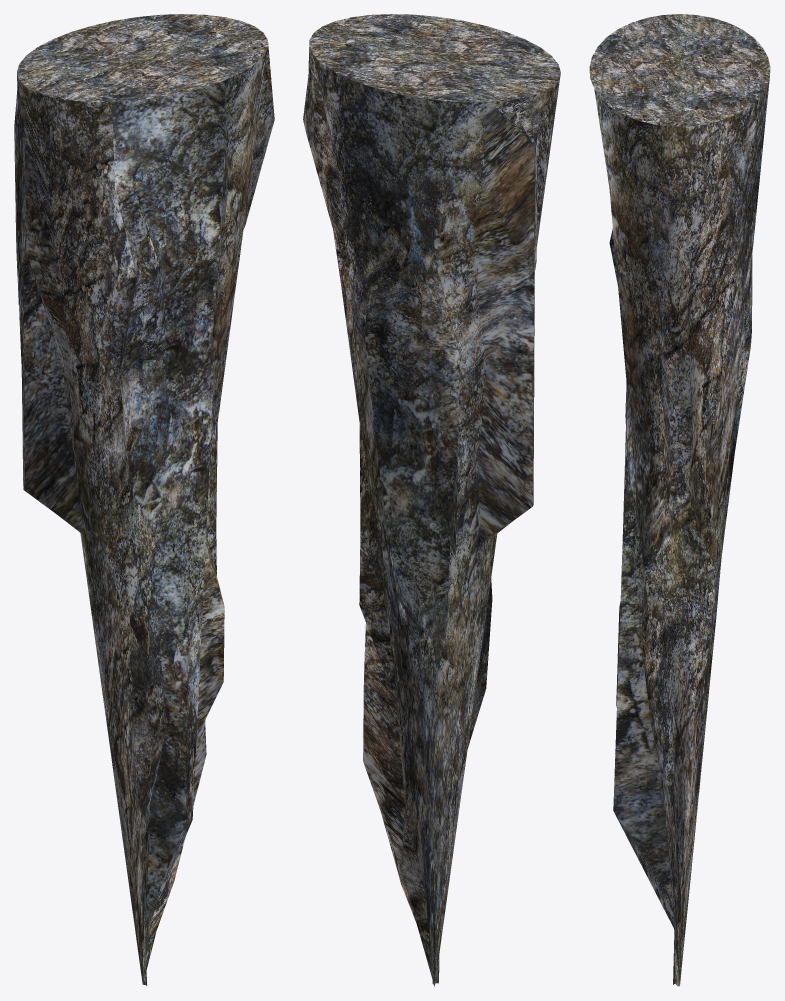
File: stalaktit.fbx
The picture shows the model from 3 angles, left to right: view 1: azimuth 30°, elevation 25°; view 2: azimuth 150°, elevation 25°; view 3: azimuth 270°, elevation 25°; orthographic projection.
Visible parts, largest first — view 1: Kegel; view 2: Kegel; view 3: Kegel.
Part boxes in pixels (x1,y1,x2,y2): Kegel: [14, 14, 274, 985]; Kegel: [303, 14, 560, 986]; Kegel: [589, 14, 770, 986].
Size of the model in its own units: 98.29 by 355 by 63.68.
1 material, 1 textured.
